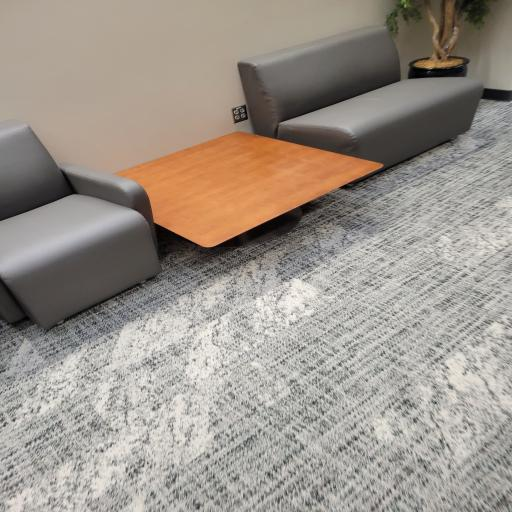chair: (0, 102, 142, 339), (238, 28, 482, 158)
table: (120, 127, 381, 251)
